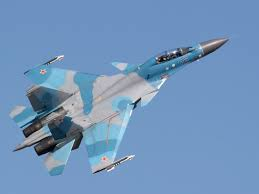maybay_muctieu: (16, 35, 228, 170)
